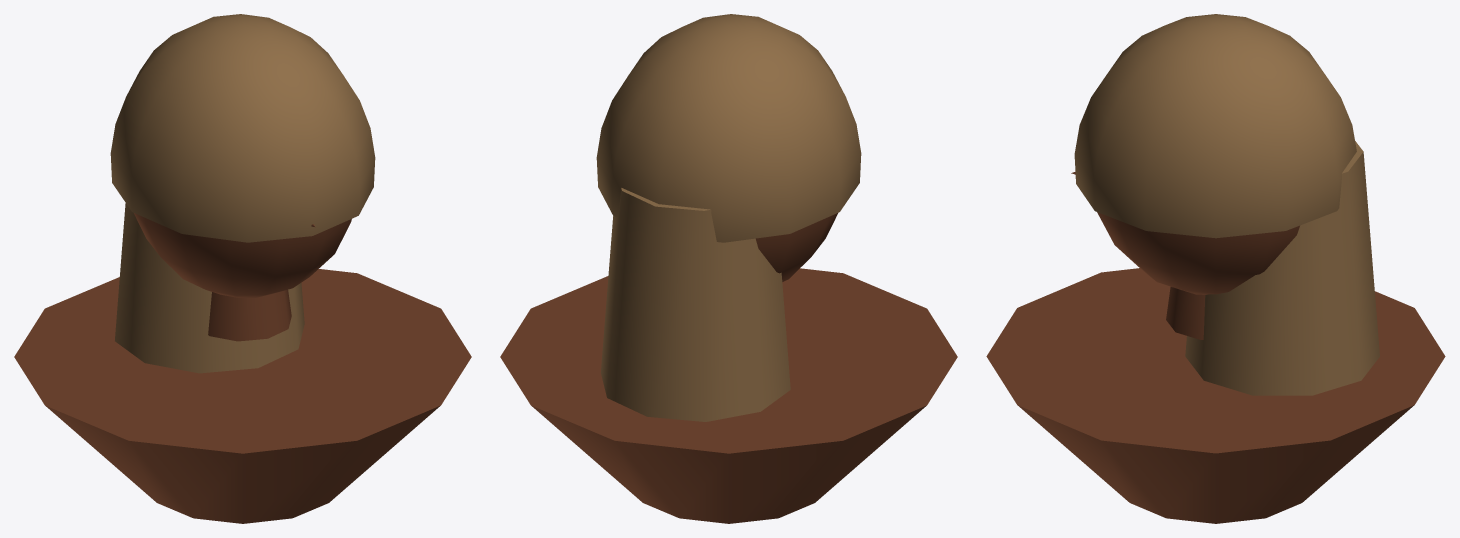
The model's file is raw_002.glb.
The picture shows the model from 3 angles, left to right: view 1: azimuth 30°, elevation 25°; view 2: azimuth 150°, elevation 25°; view 3: azimuth 270°, elevation 25°; orthographic projection.
Size of the model in its own units: 1.93 by 2.12 by 1.93.
